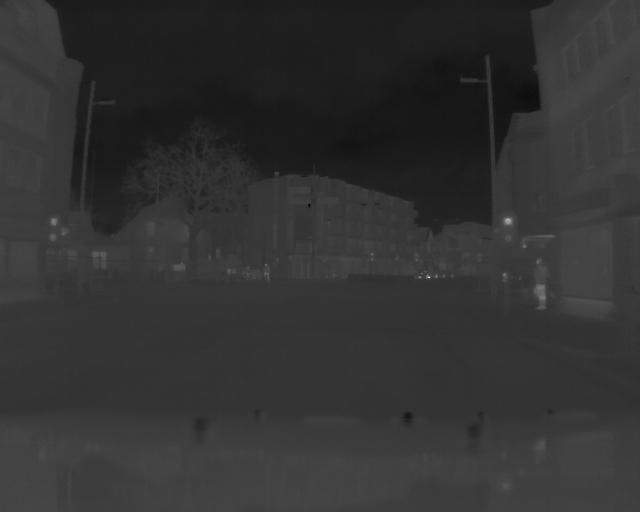person: (532, 257, 551, 311), (262, 262, 271, 288)
